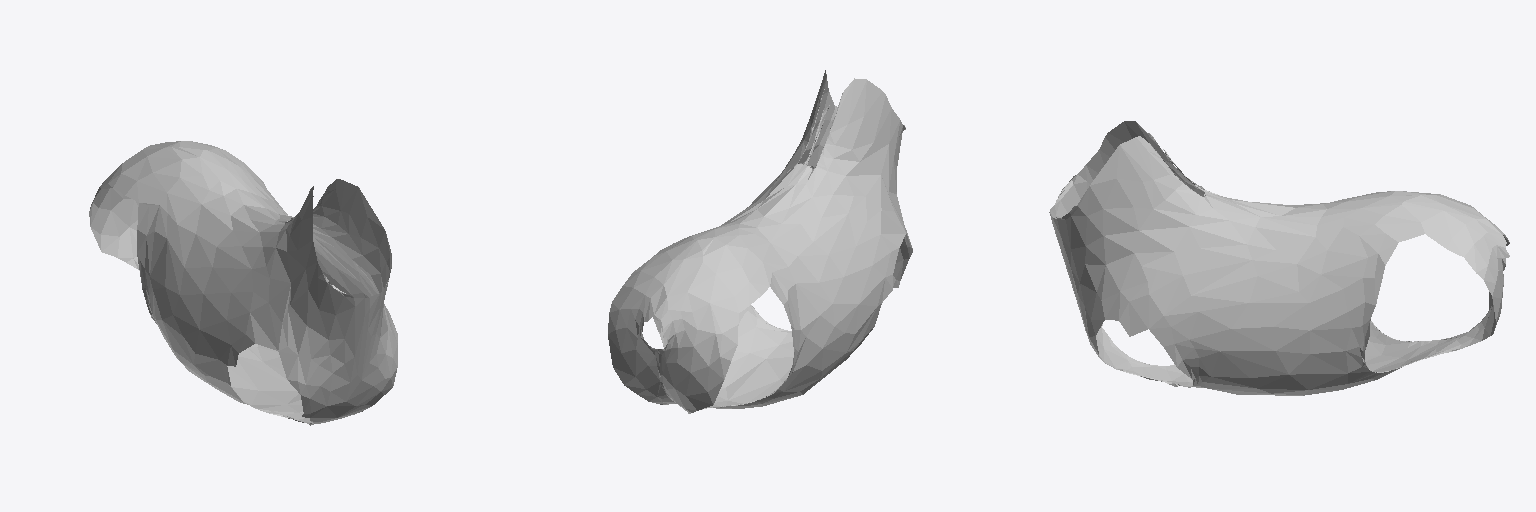
File: cuerpo_Zebra.obj
3 renders of one model, left to right at view 1: azimuth 30°, elevation 25°; view 2: azimuth 150°, elevation 25°; view 3: azimuth 270°, elevation 25°, orthographic.
Parts seen in each view (by area): view 1: bodyzebra; view 2: bodyzebra; view 3: bodyzebra.
Part boxes in pixels (x1,y1,x2,y2): bodyzebra: (89,141,397,425); bodyzebra: (608,70,912,413); bodyzebra: (1049,121,1509,395).
Bounding box in the file's own units: 18.04 × 29.46 × 48.09.